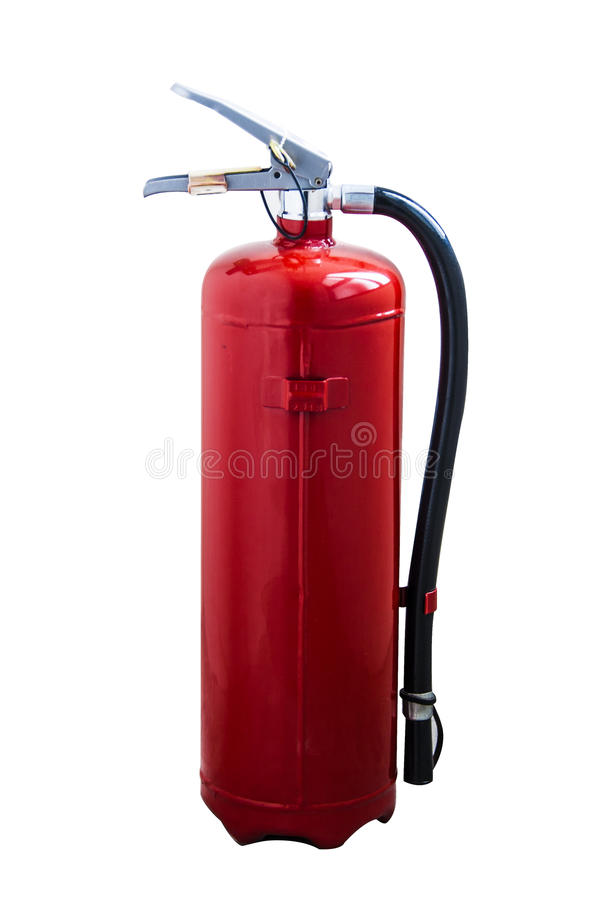fire_extinguisher: (142, 82, 470, 850)
